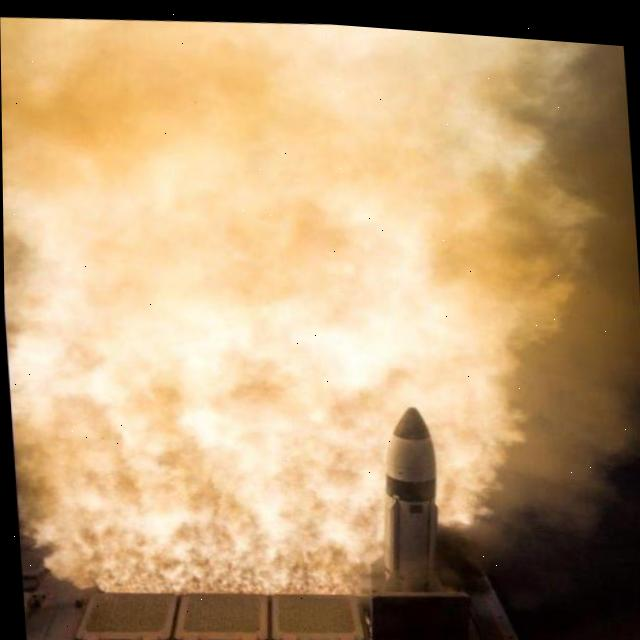missile: (346, 390, 465, 640)
